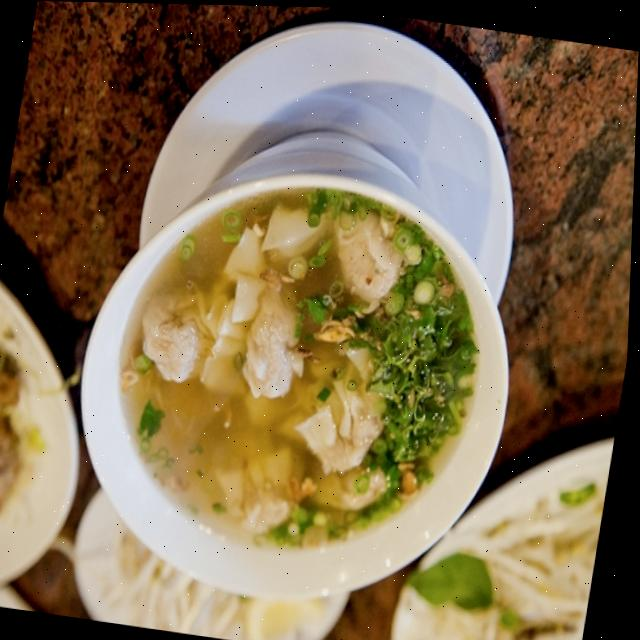汤锅炖物: (46, 117, 541, 629)
